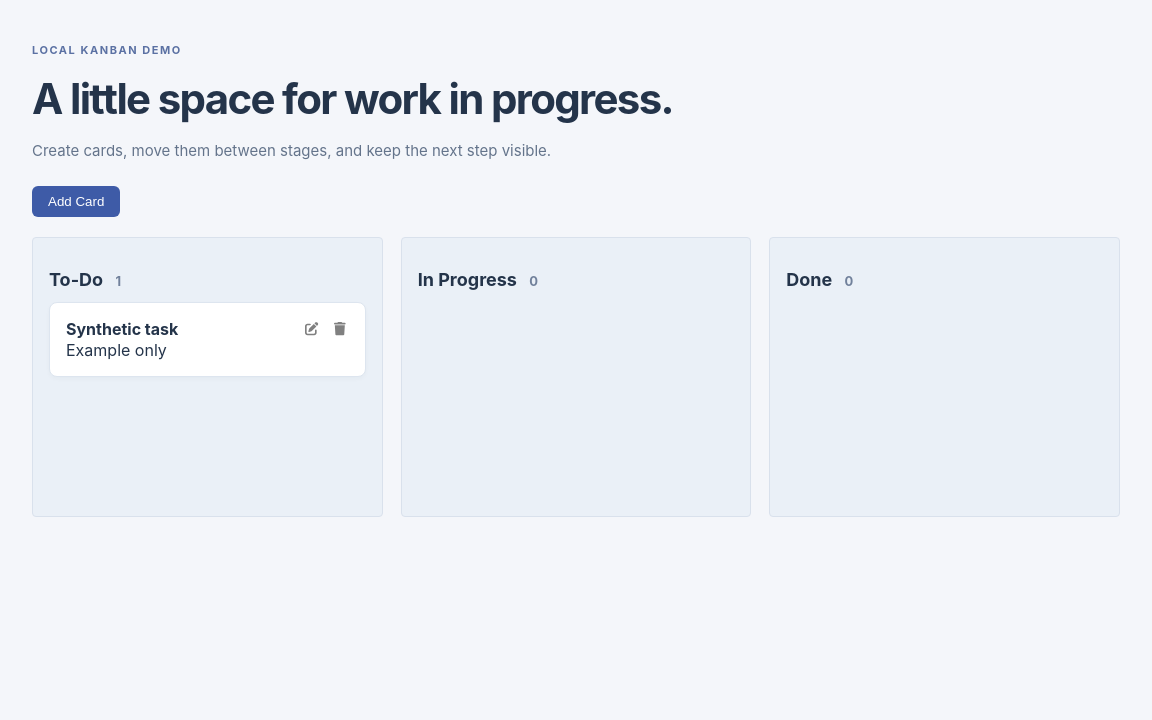
Test case: cancelling an edit clears the editor before a new card
What coordinates should you click on to do the following:
click the button named "Edit Synthetic task"
I would click on:
 (311, 329)
Its box is [302,319,321,340].
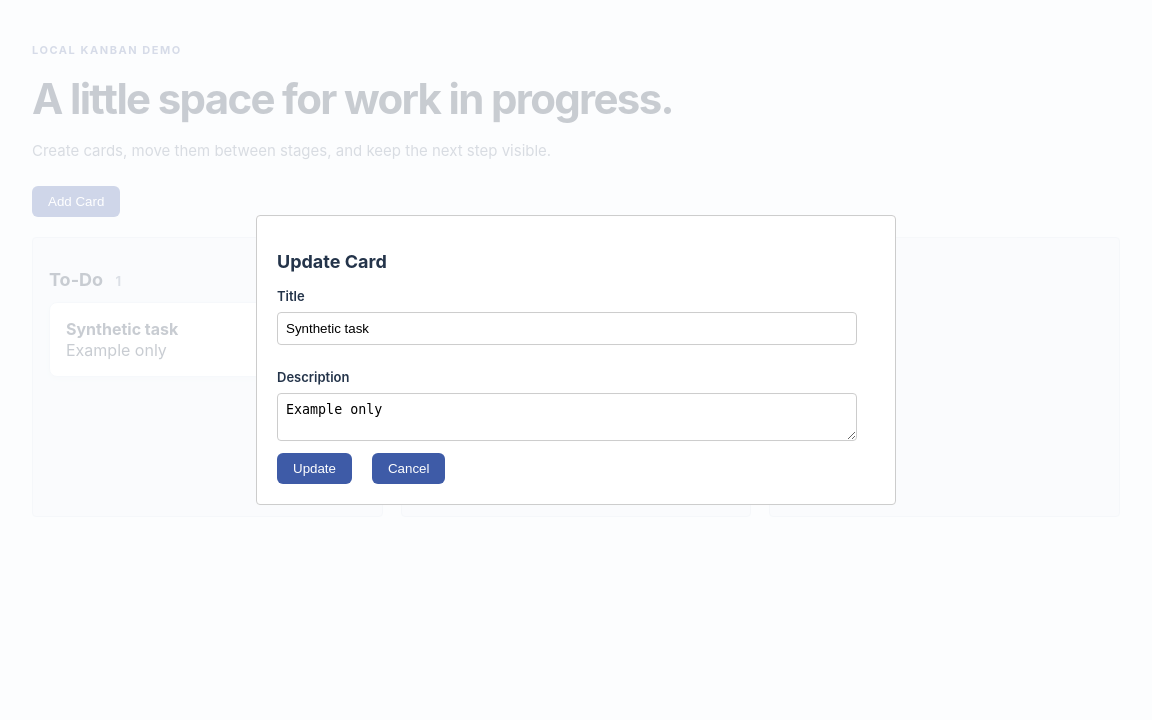
Result: the field labelled "Title" holds "Synthetic task" at [277,312,857,345]
What coordinates should you click on to do the following:
click the button "Cancel"
I would click on:
 (409, 468)
Its box is [372,453,446,484].
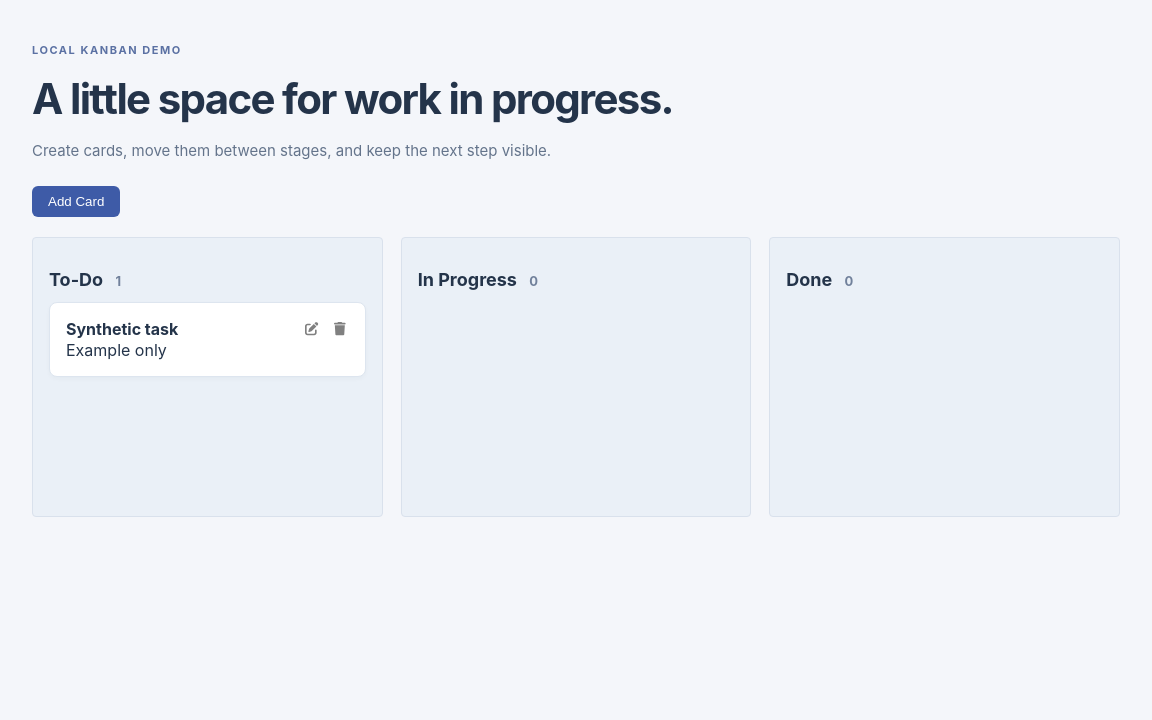
What coordinates should you click on to do the following:
click the button "Add Card"
I would click on:
 (76, 202)
Its box is [32,186,120,217].
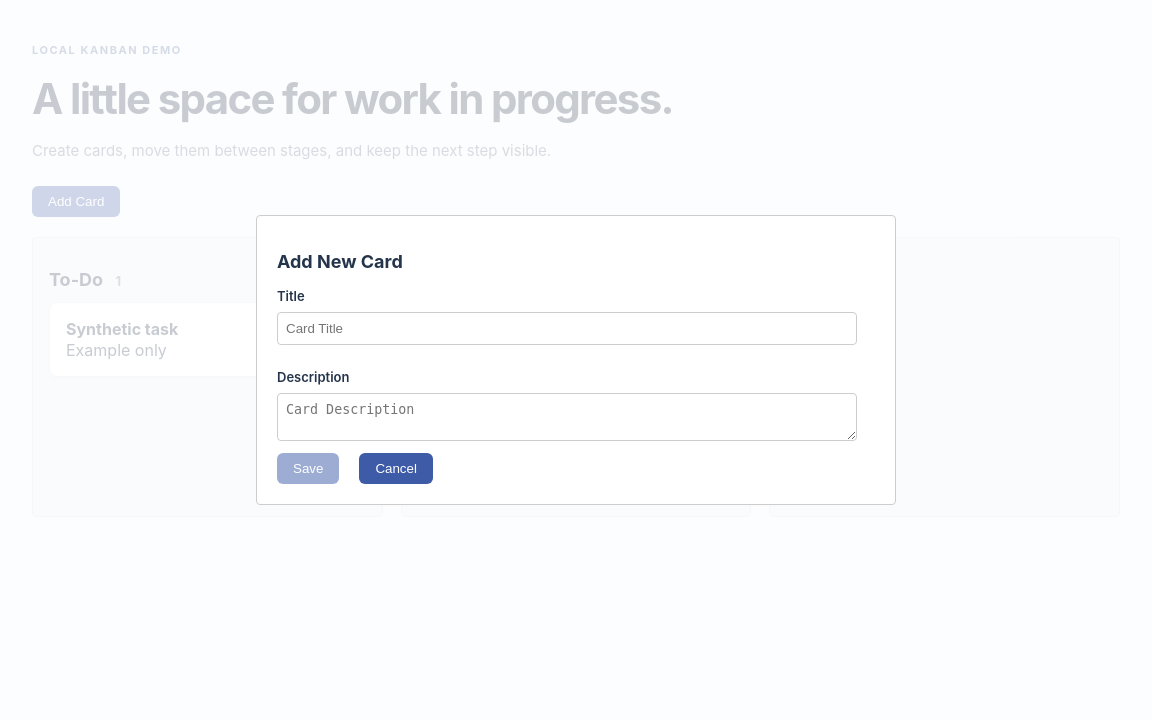
Result: the field labelled "Title" is empty at [277,312,857,345]
Result: the button "Save" is disabled at [277,453,339,484]
